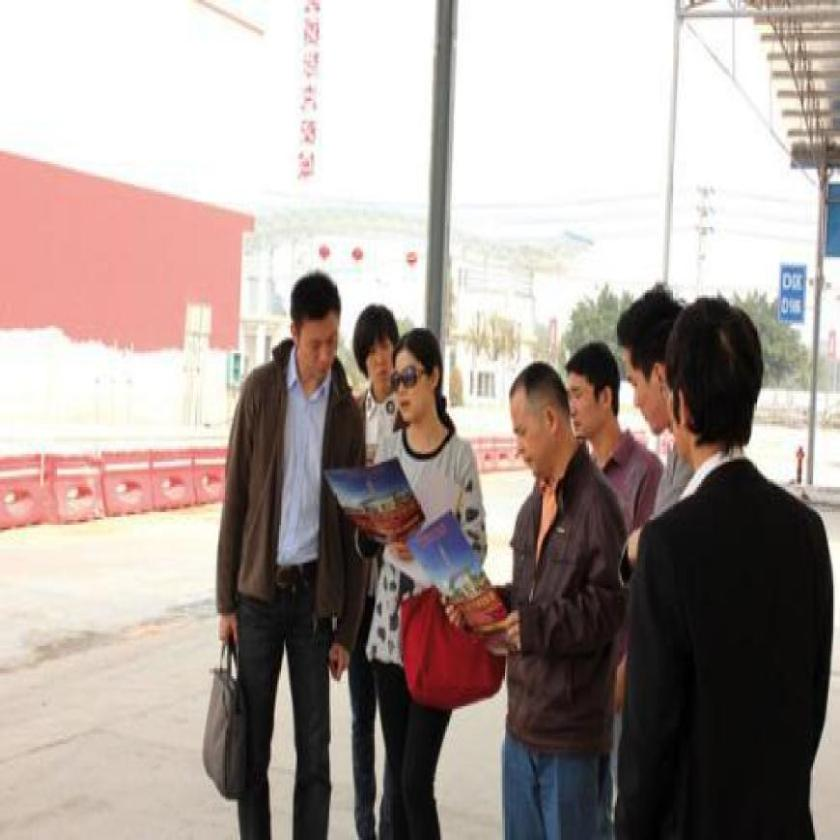Sin_casco: (664, 297, 767, 464), (615, 289, 688, 445), (508, 355, 572, 481), (284, 266, 344, 387), (565, 340, 626, 448), (392, 324, 450, 437), (352, 299, 402, 401)
